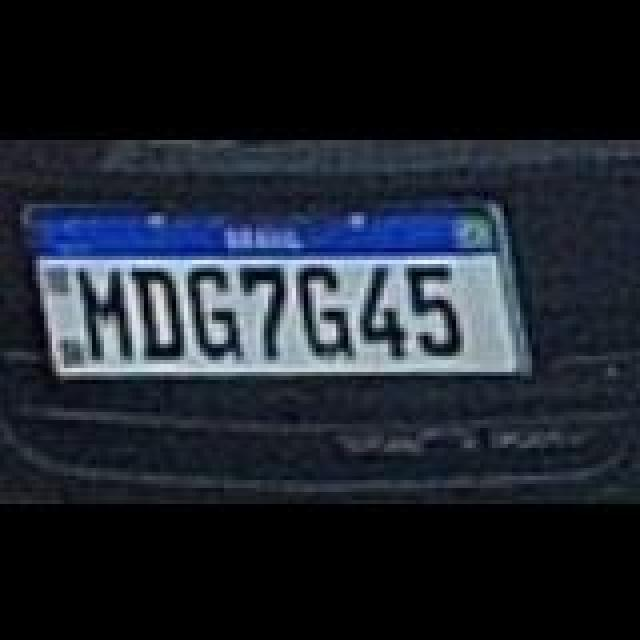4: (350, 260, 418, 356)
5: (402, 262, 478, 354)
7: (232, 260, 304, 356)
D: (126, 264, 194, 360)
G: (182, 262, 250, 362), (294, 260, 362, 356)
M: (70, 262, 138, 362)
